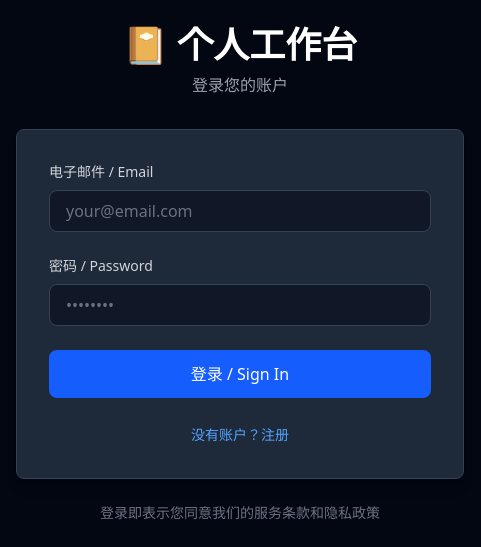
it: LoginPage › 应该能够切换到注册模式
Click the button "没有账户？注册": x=240, y=435 [191,425,289,445]
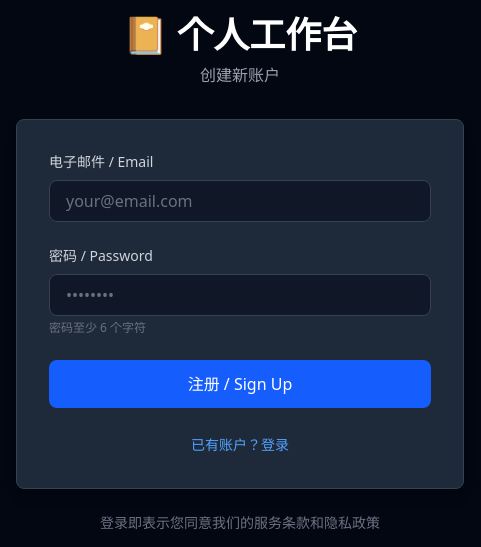
Expected: the text "创建新账户" is shown, [200,64,280,86]
Expected: the button "注册 / Sign Up" is shown, [49,360,431,408]
